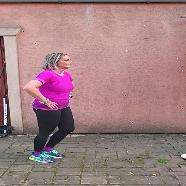lunges: (15, 48, 76, 161)
